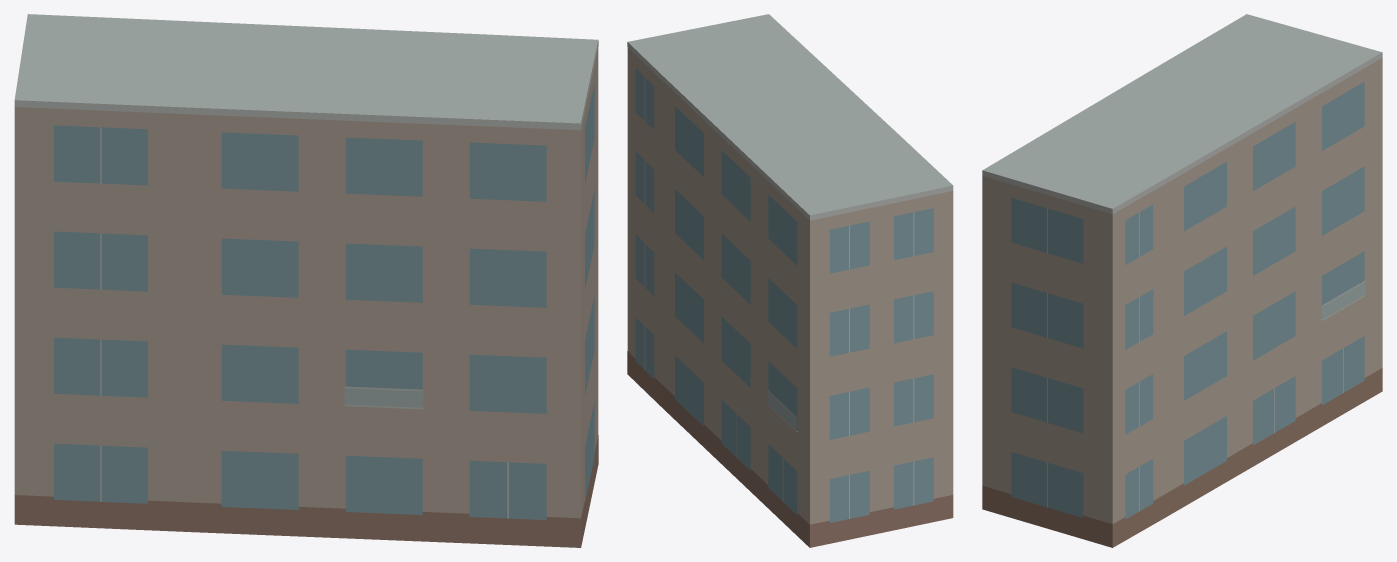
File: survey-upis-32723847.glb
3 views of the same model, side by side, from view 1: azimuth 30°, elevation 25°; view 2: azimuth 150°, elevation 25°; view 3: azimuth 270°, elevation 25° (orthographic). The views are drawn at different scales.
Parts seen in each view (by area): view 1: survey-upis-32723847.tmp; view 2: survey-upis-32723847.tmp; view 3: survey-upis-32723847.tmp.
Part boxes in pixels (box(x1,y1,x2,y2)): survey-upis-32723847.tmp: box(14, 14, 598, 547); survey-upis-32723847.tmp: box(627, 14, 953, 547); survey-upis-32723847.tmp: box(982, 14, 1382, 547).
Size of the model in its own units: 18.99 by 15.4 by 16.48.
